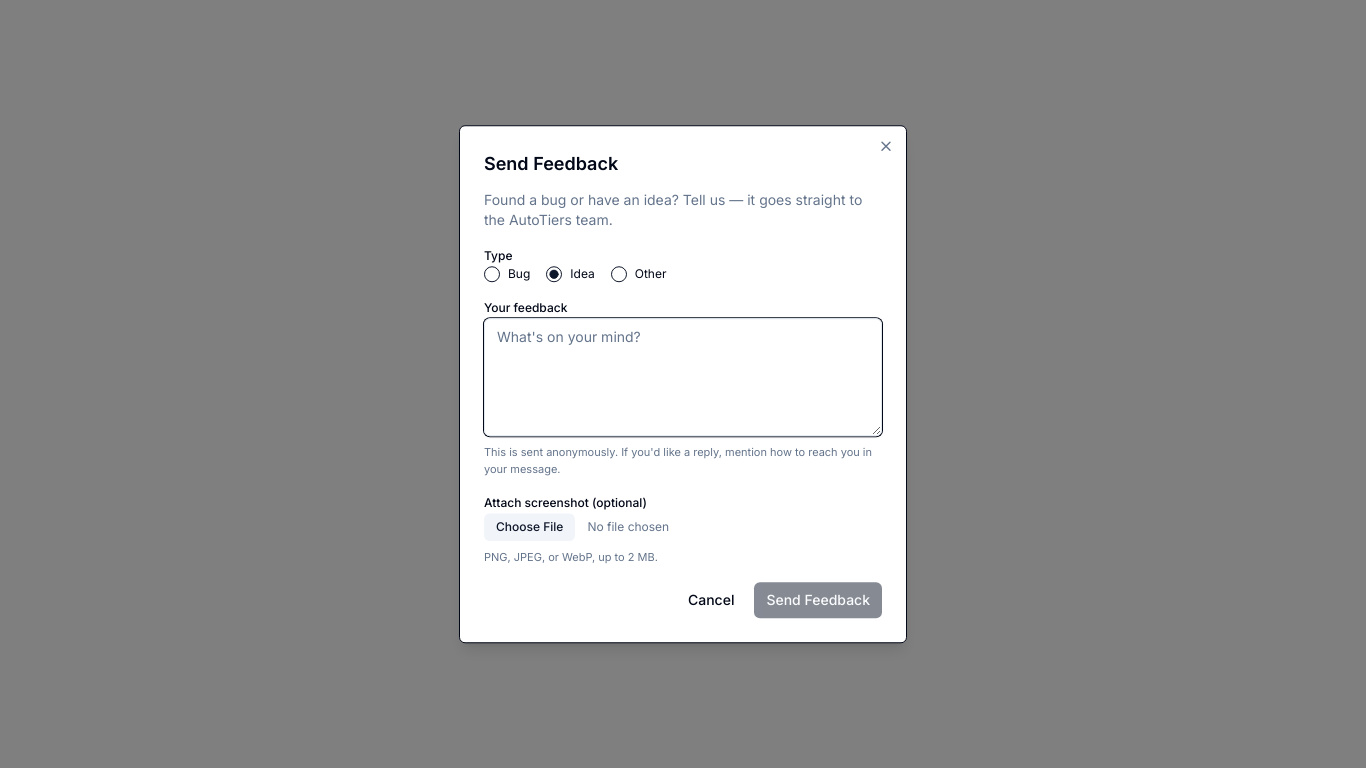
Test: FeedbackDialog › shows the rate-limit message on 429
In the text box labelled "Your feedback": [683, 377] box x1=484 y1=318 x2=882 y2=436, type "spam"
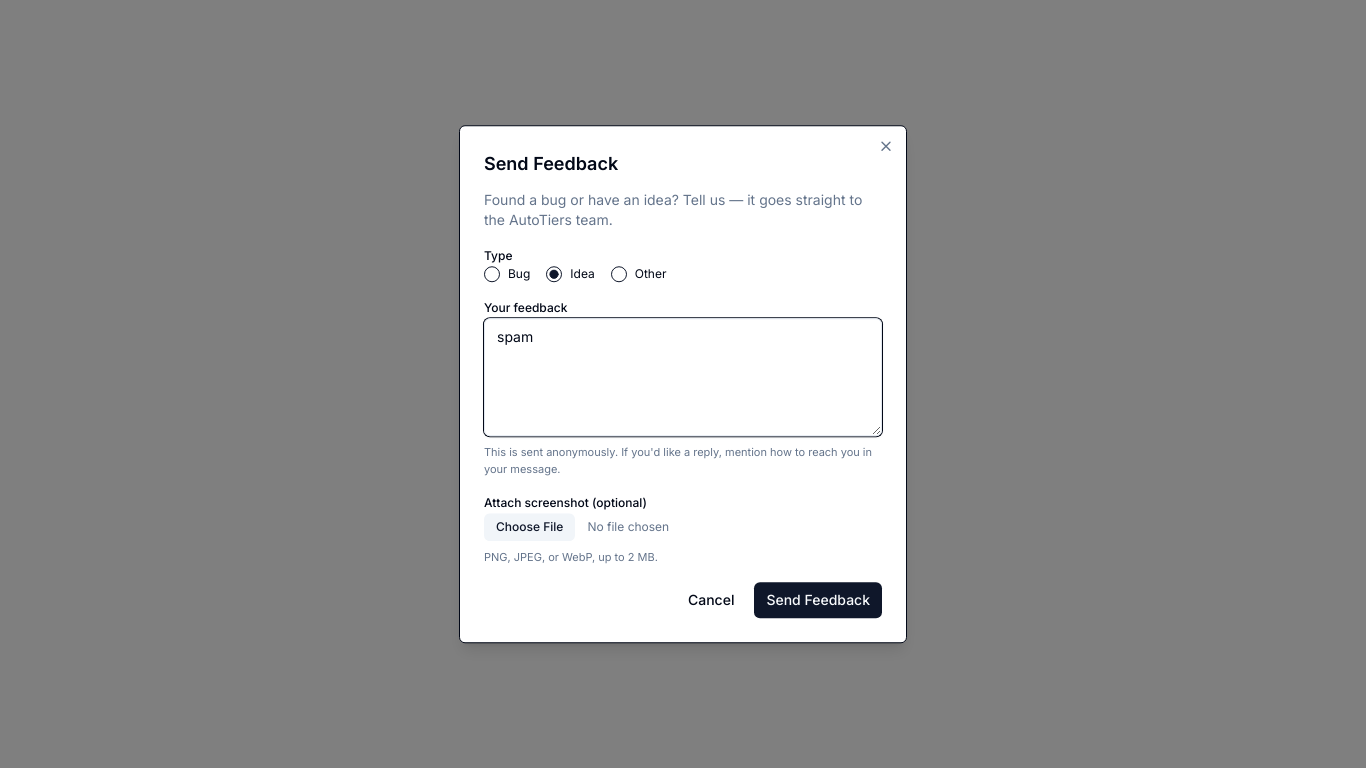
Click the button "Send Feedback": [818, 600] box x1=754 y1=582 x2=882 y2=618
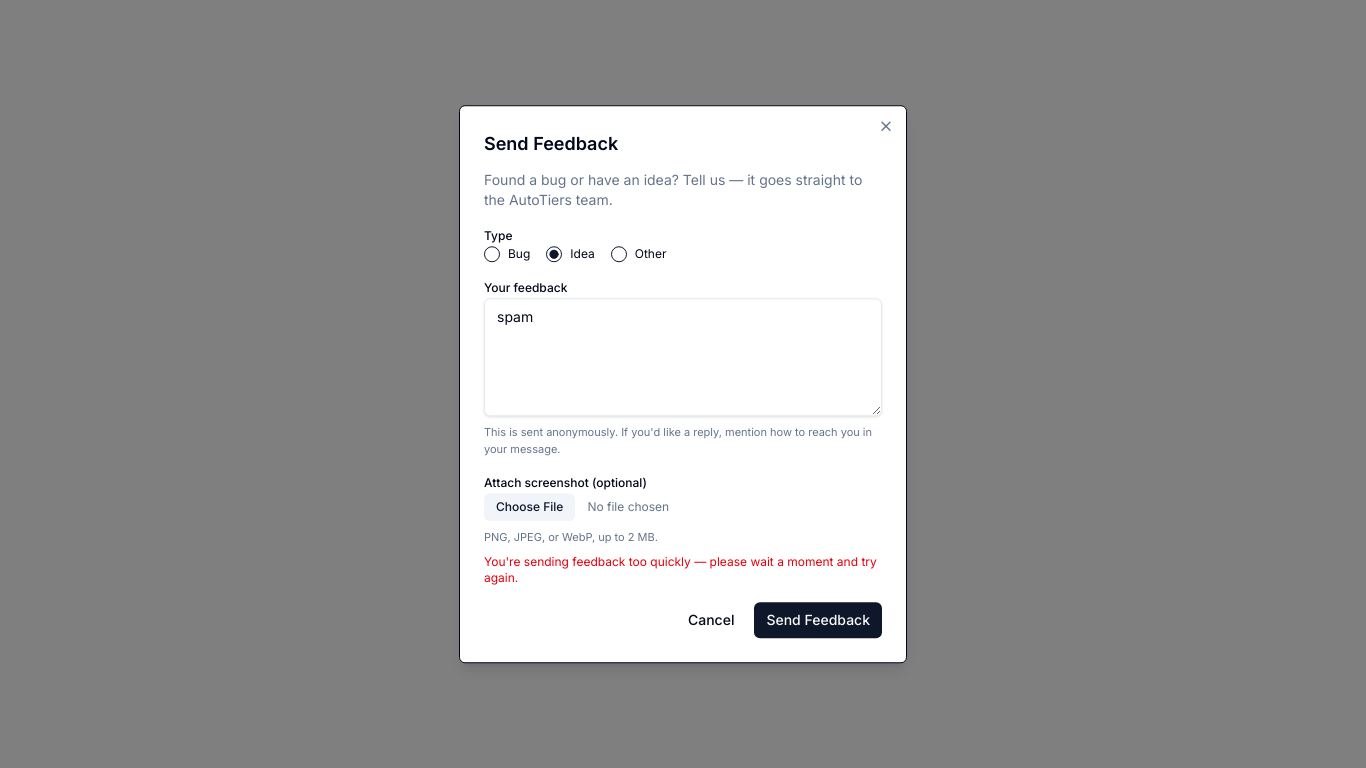
Result: the message shows "too quickly" at x1=484 y1=554 x2=877 y2=585
